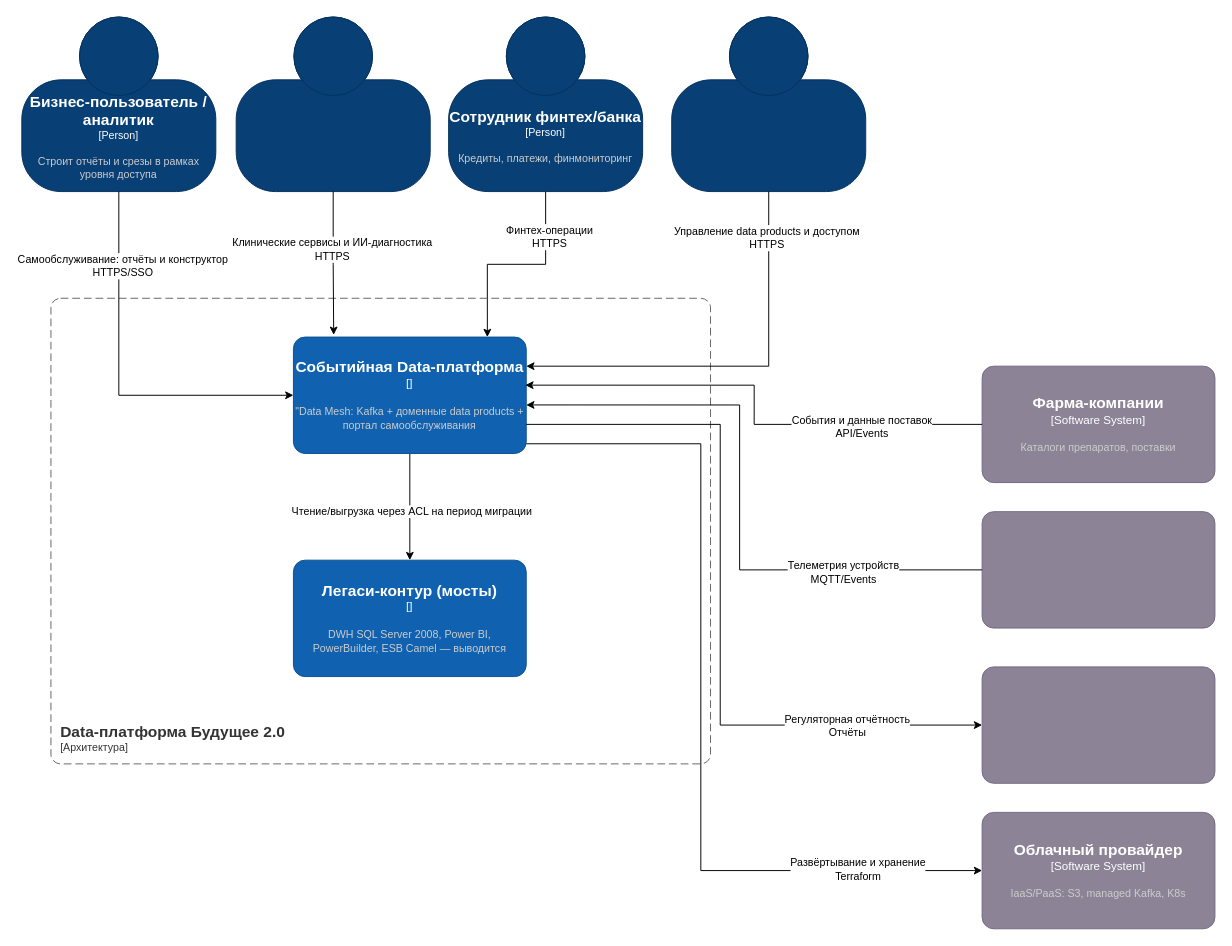
The diagram is 1232 pixels wide and 946 high, and some of its shapes have lost their labels. The shapes that lost their labels are listed below. From the top down, each one's box as (x1, y1, x2, y2) in pixels, then its label:
(235, 16, 430, 192): Врач клиники [Person] Работает с клиническими данными и ИИ-диагностикой
(671, 16, 866, 192): Data Product Owner [Person] Владеет доменными data products и политиками доступа
(981, 511, 1215, 628): Производители электроники / IoT [Software System] Телеметрия оборудования
(981, 666, 1215, 783): Регуляторы [Software System] Требования к мед. и фин. данным
